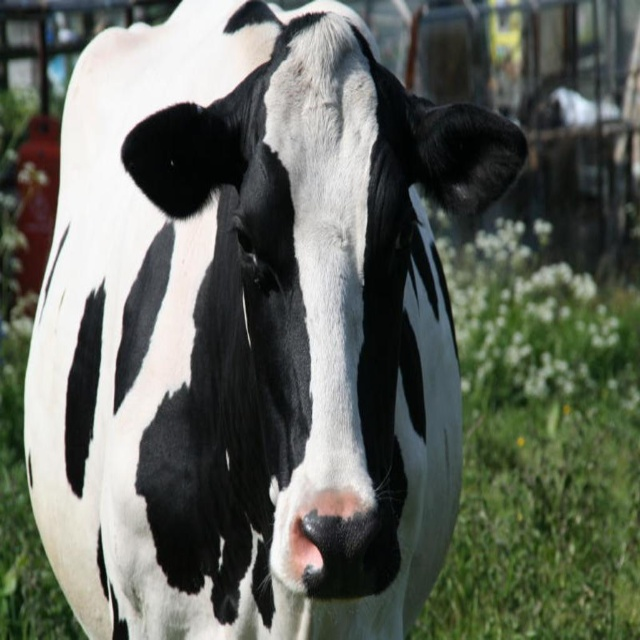Cattle: (24, 0, 529, 640)
